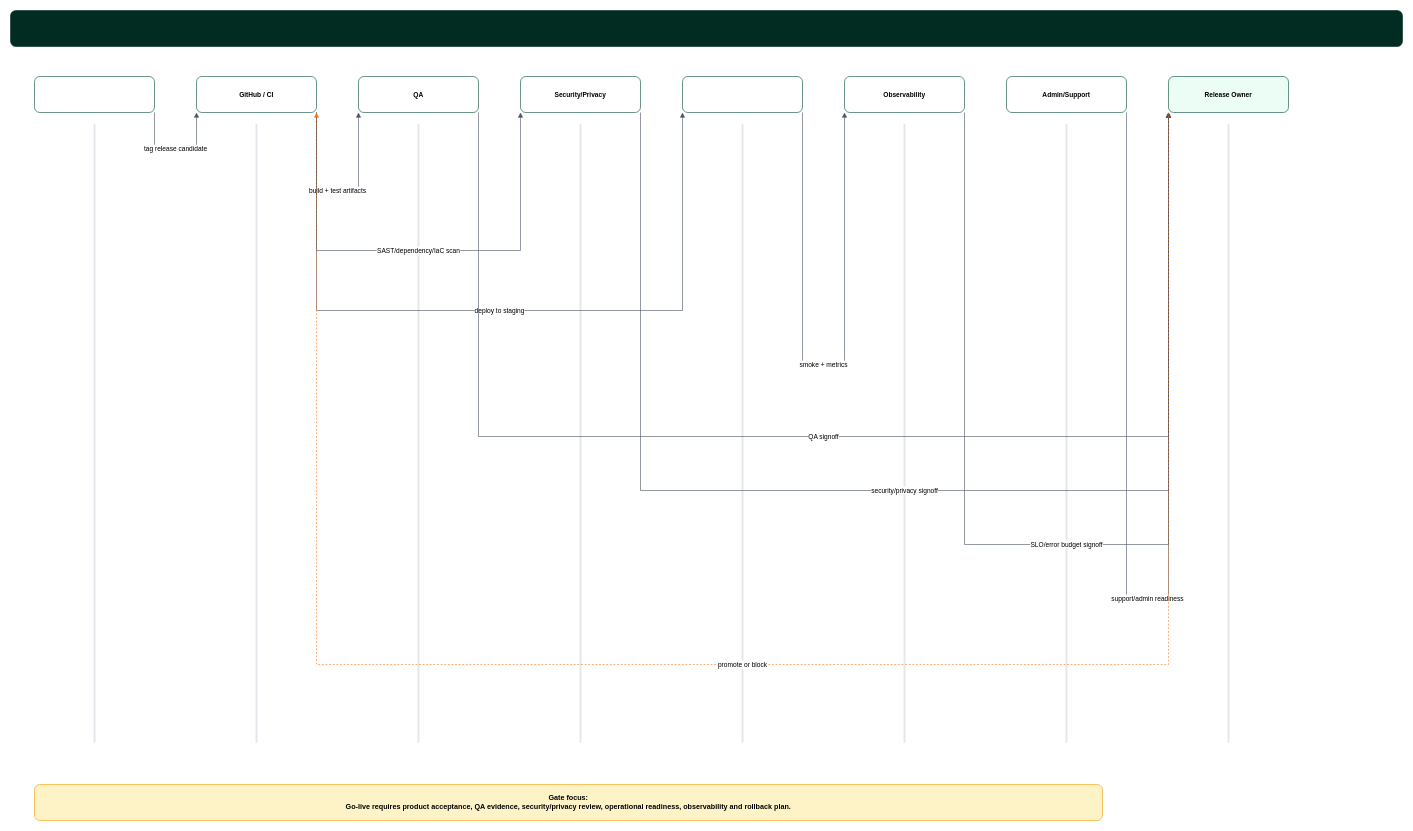
The diagram is 1413 pixels wide and 831 high, and some of its shapes have lost their labels. Here are the shapes that lost their labels. From the top down, the centre of each, then its label:
At point 706,28: "Viaverse Release Gate / Go-Live Decision — Sequence Diagram".
At point 94,94: "Product Lead".
At point 742,94: "Platform/Ops".
